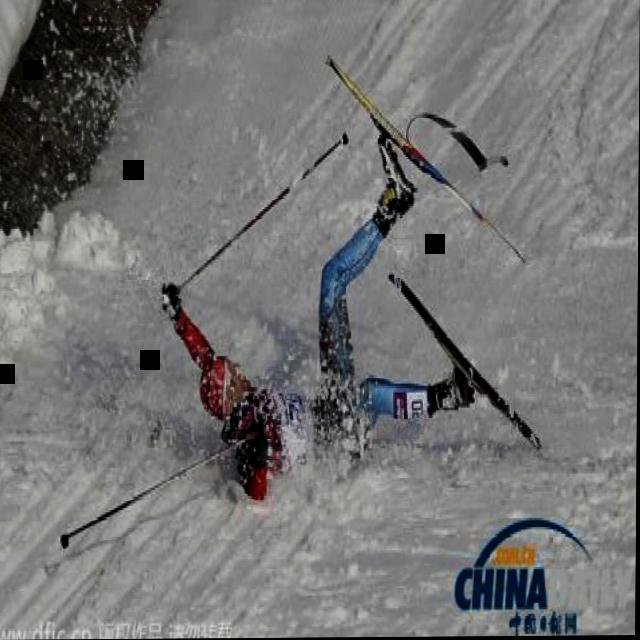Fall-Detected: (124, 130, 505, 508)
